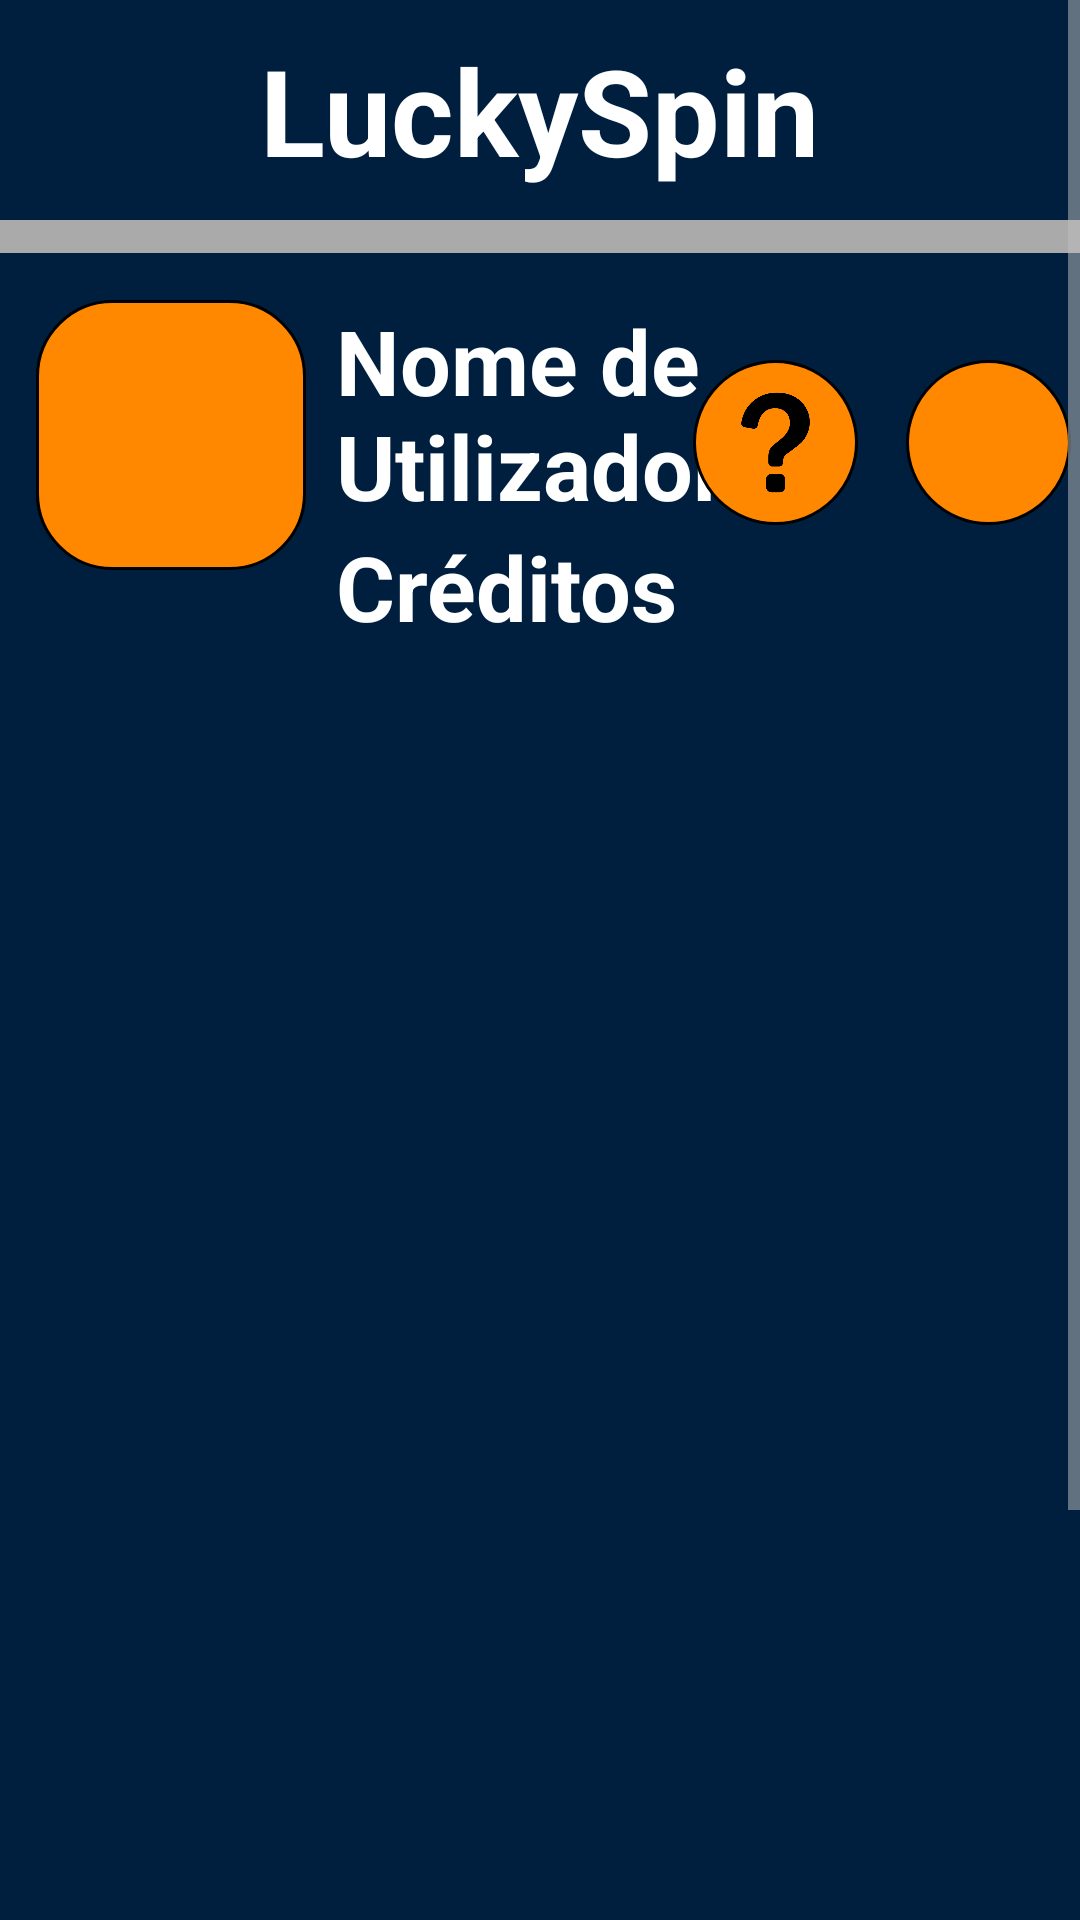

Named icons in this screenshot (1080×1920) and their bounding boxes, (x1, y1, x2, y2):
question: (693, 360, 858, 525)
